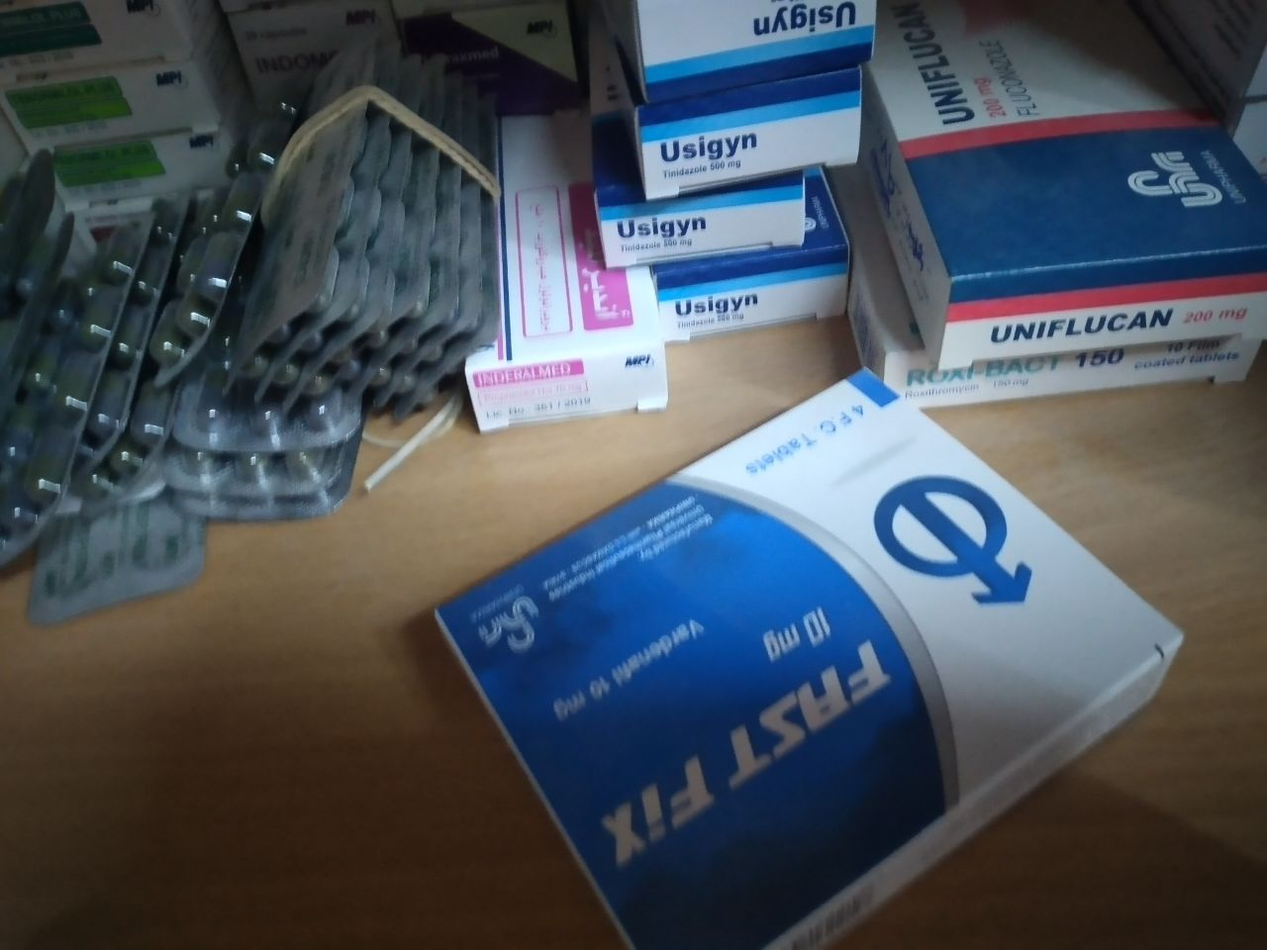Medicine: (421, 346, 1208, 950), (878, 0, 1267, 356), (443, 87, 663, 423), (601, 82, 874, 190), (636, 2, 869, 94), (638, 270, 881, 354), (881, 349, 1267, 398), (596, 190, 824, 272)
